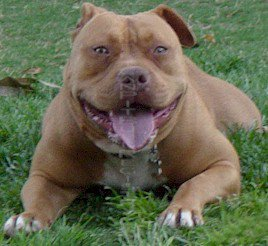Perro Pitbull: (34, 2, 226, 198)
